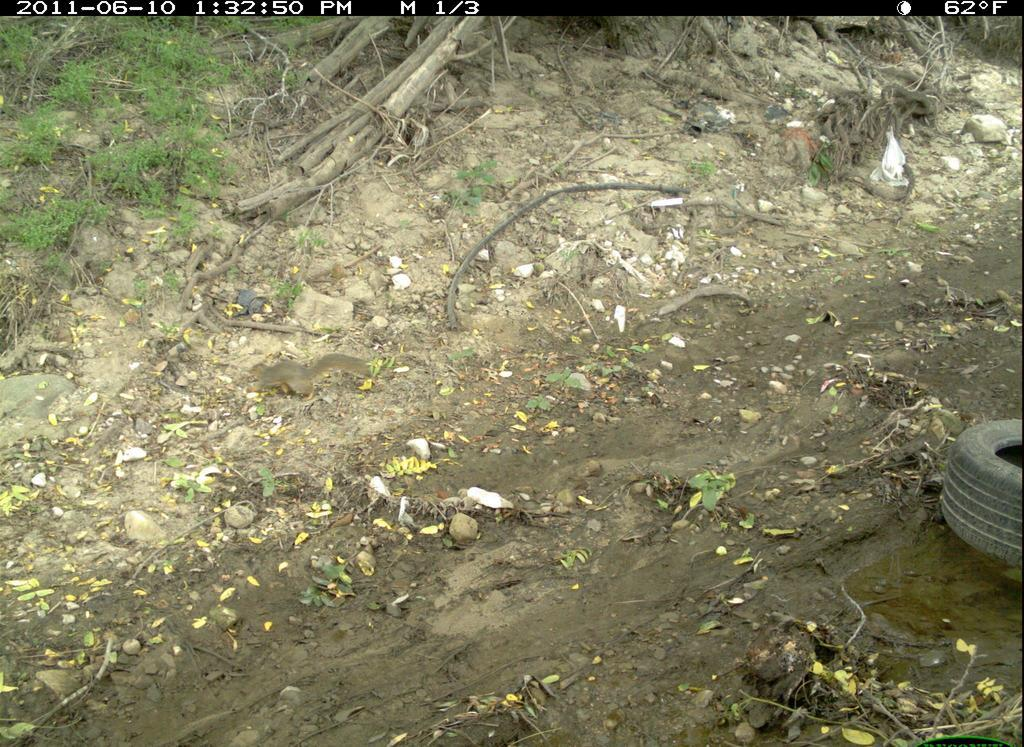squirrel: (242, 351, 372, 409)
